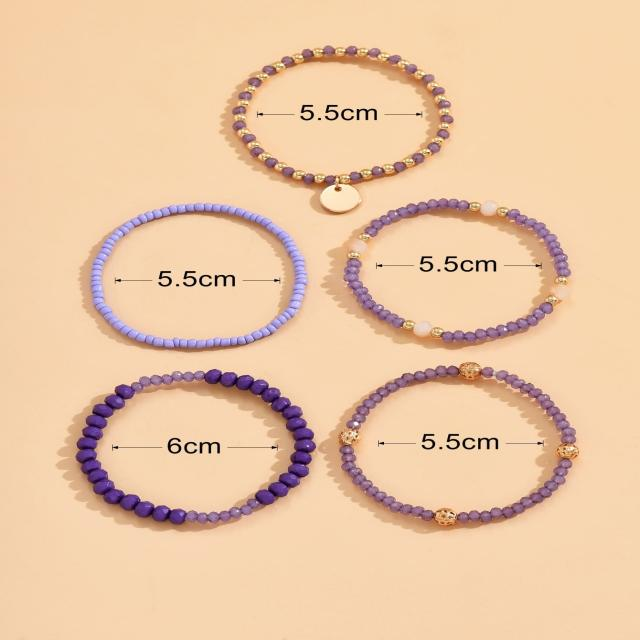bracelet: (180, 1, 487, 216), (47, 349, 322, 560), (327, 348, 605, 555), (324, 188, 606, 369), (67, 164, 316, 360)
